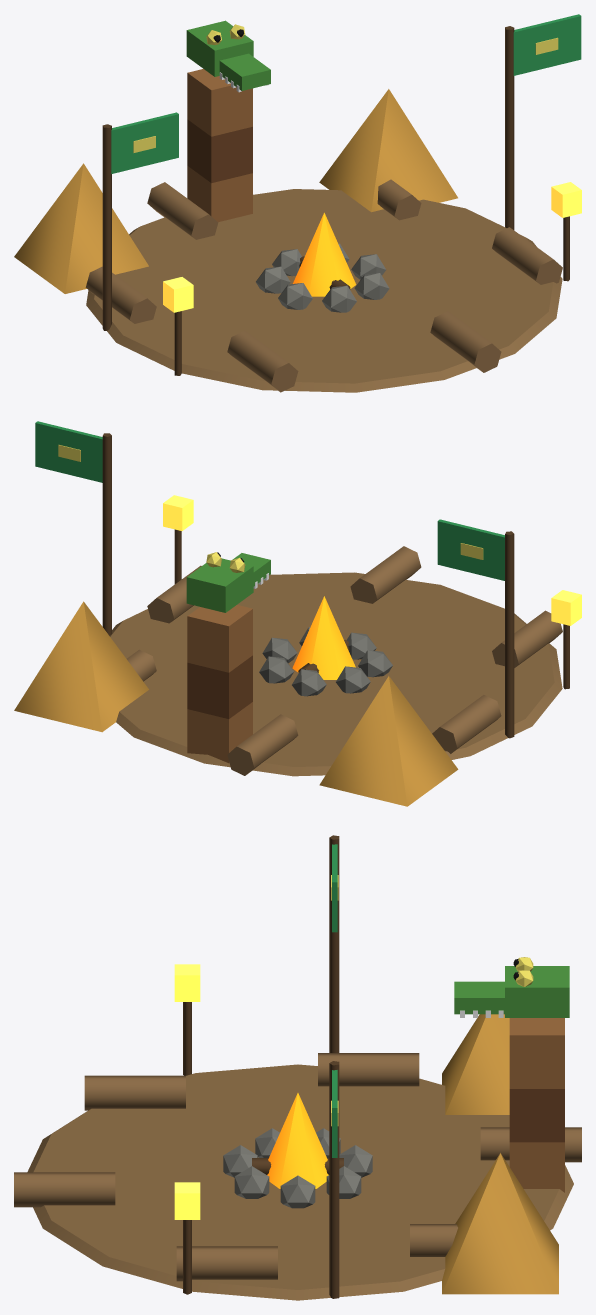
The model's file is level3.glb.
The picture shows the model from 3 angles, top to bottom: view 1: azimuth 30°, elevation 25°; view 2: azimuth 150°, elevation 25°; view 3: azimuth 270°, elevation 25°; orthographic projection. The views are drawn at different scales.
Visible parts, largest first — view 1: object 1, object 19, object 20, object 27, object 26, object 46, object 43, flame, object 25, object 14, object 15, object 28 (+16 smaller); view 2: object 1, object 19, object 20, object 27, object 26, object 46, object 43, object 28, object 25, flame, object 17, object 14 (+15 smaller); view 3: object 1, object 20, object 19, object 27, object 14, object 15, flame, object 16, object 13, object 28, object 26, object 25 (+14 smaller).
Boxes of the visible parts, box(x1,y1,x2,y2) form: object 1: box(86, 189, 562, 392); object 19: box(14, 163, 148, 293); object 20: box(319, 89, 457, 212); object 27: box(187, 69, 252, 136); object 26: box(187, 119, 252, 183); object 46: box(513, 14, 581, 75); object 43: box(111, 112, 178, 173); flame: box(293, 212, 356, 296); object 25: box(187, 166, 252, 222); object 14: box(430, 311, 501, 372); object 15: box(227, 331, 298, 392); object 28: box(186, 20, 253, 76); object 1: box(109, 572, 562, 776); object 19: box(319, 676, 458, 806); object 20: box(14, 601, 148, 732); object 27: box(187, 605, 252, 672); object 26: box(187, 655, 252, 718); object 46: box(35, 421, 102, 482); object 43: box(437, 519, 504, 580); object 28: box(186, 558, 253, 612); object 25: box(187, 702, 252, 763); flame: box(292, 596, 355, 679); object 17: box(227, 714, 298, 775); object 14: box(350, 546, 421, 603); object 1: box(27, 1064, 573, 1300); object 20: box(442, 1153, 558, 1294); object 19: box(442, 1014, 509, 1114); object 27: box(509, 1018, 564, 1088); object 14: box(14, 1172, 115, 1207); object 15: box(84, 1075, 185, 1110); flame: box(267, 1093, 328, 1188); object 16: box(318, 1053, 419, 1086); object 13: box(176, 1246, 277, 1281); object 28: box(505, 966, 569, 1017); object 26: box(509, 1089, 564, 1142); object 25: box(509, 1142, 564, 1192).
Bounding box in the file's own units: 3.67 × 1.5 × 3.27.
